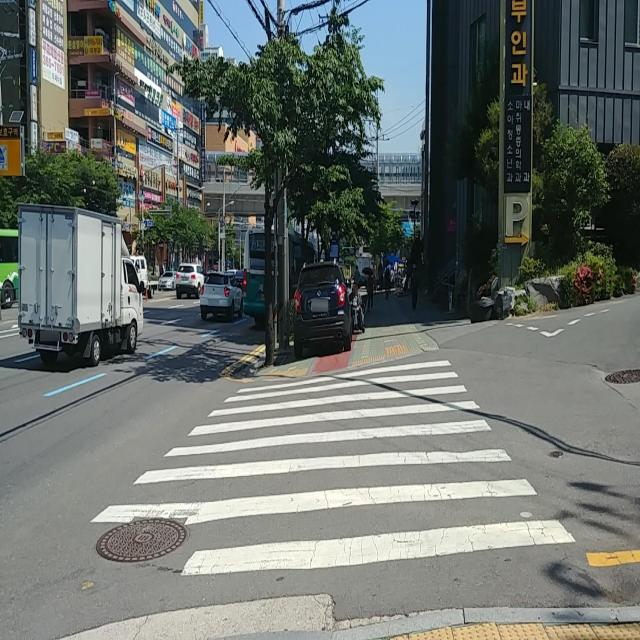횡단보도: (88, 353, 578, 582)
